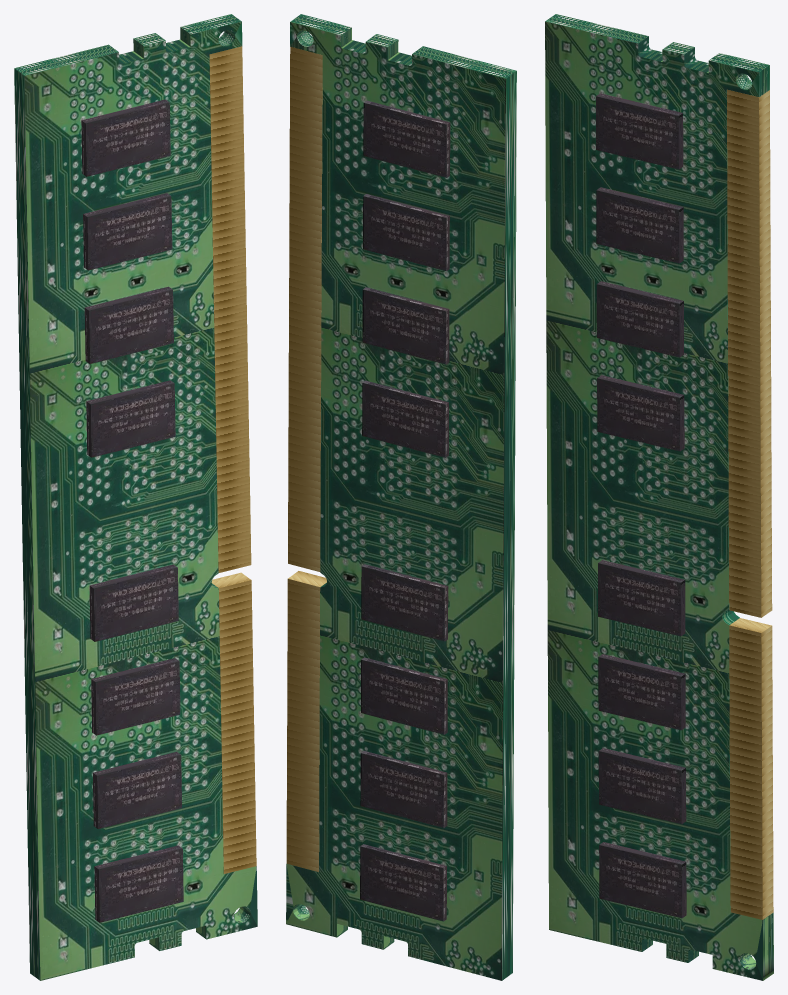
File: ram.glb
3 views of the same model, side by side, from view 1: azimuth 30°, elevation 25°; view 2: azimuth 150°, elevation 25°; view 3: azimuth 330°, elevation 25° (orthographic).
Visible parts, largest first — view 1: Cube_Material_0, Cube.001_Material.002_0, Cube.002_Material.001_0; view 2: Cube_Material_0, Cube.001_Material.002_0, Cube.002_Material.001_0; view 3: Cube_Material_0, Cube.001_Material.002_0, Cube.002_Material.001_0.
Part boxes in pixels (x1,y1,x2,y2): Cube_Material_0: (14,14,257,980); Cube.001_Material.002_0: (81,99,183,922); Cube.002_Material.001_0: (209,46,256,873); Cube_Material_0: (286,14,516,980); Cube.001_Material.002_0: (360,100,450,921); Cube.002_Material.001_0: (286,46,326,871); Cube_Material_0: (545,14,773,980); Cube.001_Material.002_0: (596,93,686,918); Cube.002_Material.001_0: (727,89,773,919).
Size of the model in its own units: 2.24 by 8.58 by 0.4089.
Materials: 3 (3 with a texture image).
